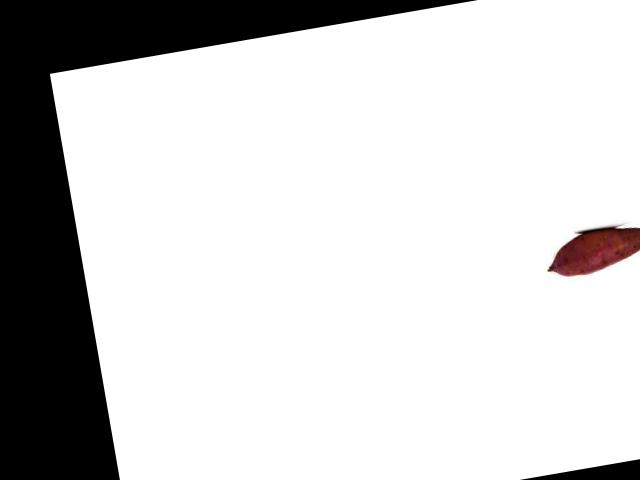sweet_potato: (542, 221, 640, 280)
